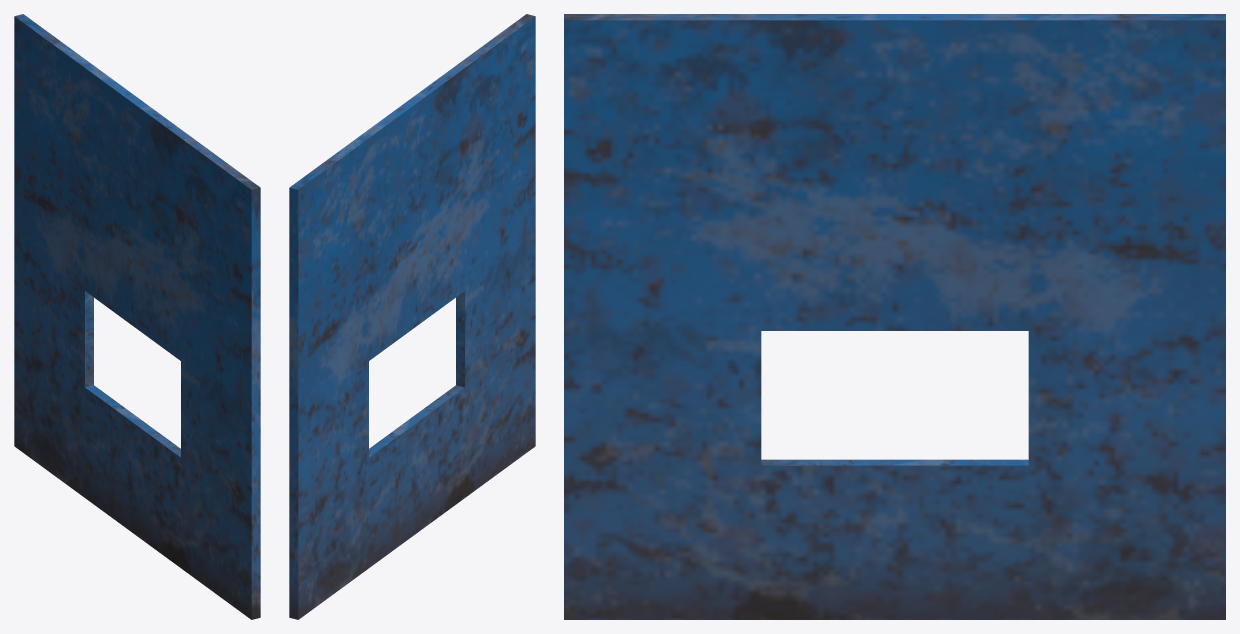
File: WindowWallBlue_SM.fbx
3 views of the same model, side by side, from view 1: azimuth 30°, elevation 25°; view 2: azimuth 150°, elevation 25°; view 3: azimuth 270°, elevation 25° (orthographic). The views are drawn at different scales.
Visible parts, largest first — view 1: WindowWall; view 2: WindowWall; view 3: WindowWall.
Part boxes in pixels (x1,y1,x2,y2): WindowWall: (14,14,260,619); WindowWall: (289,14,535,619); WindowWall: (564,14,1225,619).
Size of the model in its own units: 10 by 450 by 450.
1 material, 1 textured.
